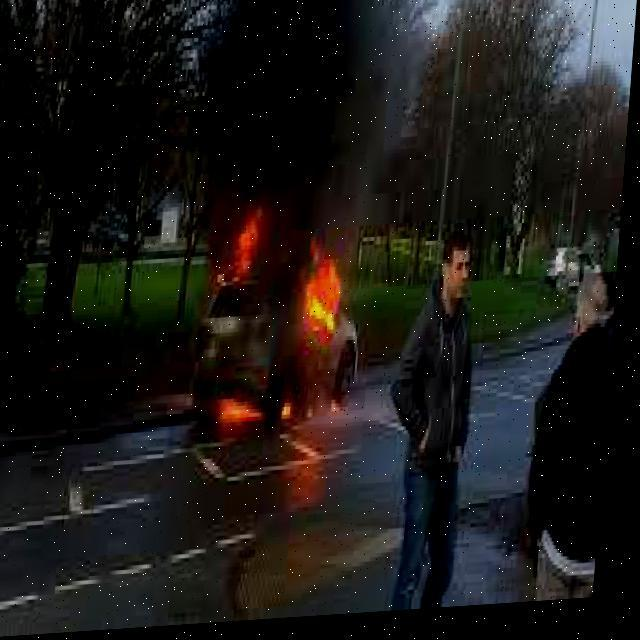Fire: (190, 212, 367, 444)
